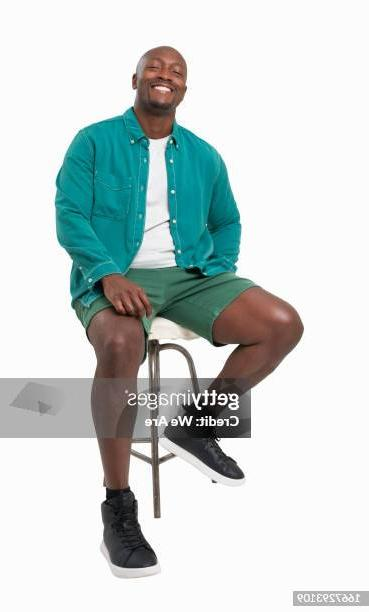Shorts: (68, 259, 263, 351)
long sleeve shirt: (50, 105, 242, 307)
short sleeve shirt: (132, 132, 178, 269)
